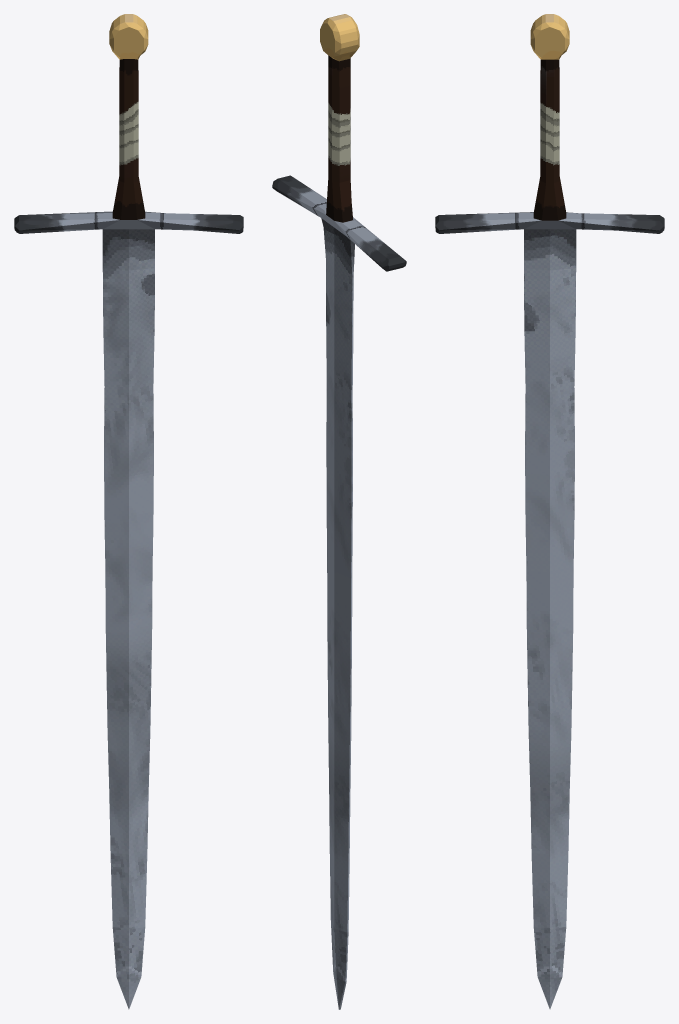
The model's file is longsword.glb.
3 renders of one model, left to right at view 1: azimuth 90°, elevation 25°; view 2: azimuth 210°, elevation 25°; view 3: azimuth 270°, elevation 25°, orthographic.
Visible parts, largest first — view 1: Plane; view 2: Plane; view 3: Plane.
Part boxes in pixels (x1,y1,x2,y2): Plane: (14,14,243,1009); Plane: (272,14,406,1009); Plane: (435,14,664,1009).
Bounding box in the file's own units: 0.2088 × 8.07 × 1.69.
4 materials, 4 textured.
